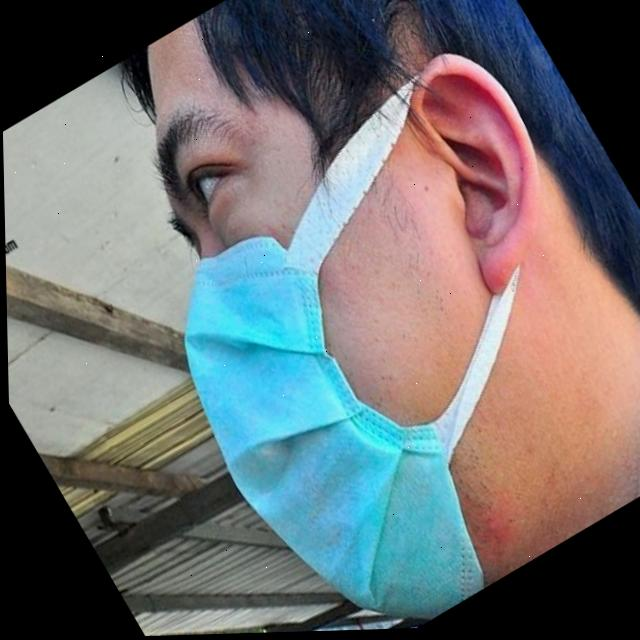Mask: (100, 66, 640, 638)
